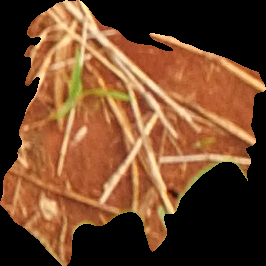soil: (2, 2, 265, 266)
